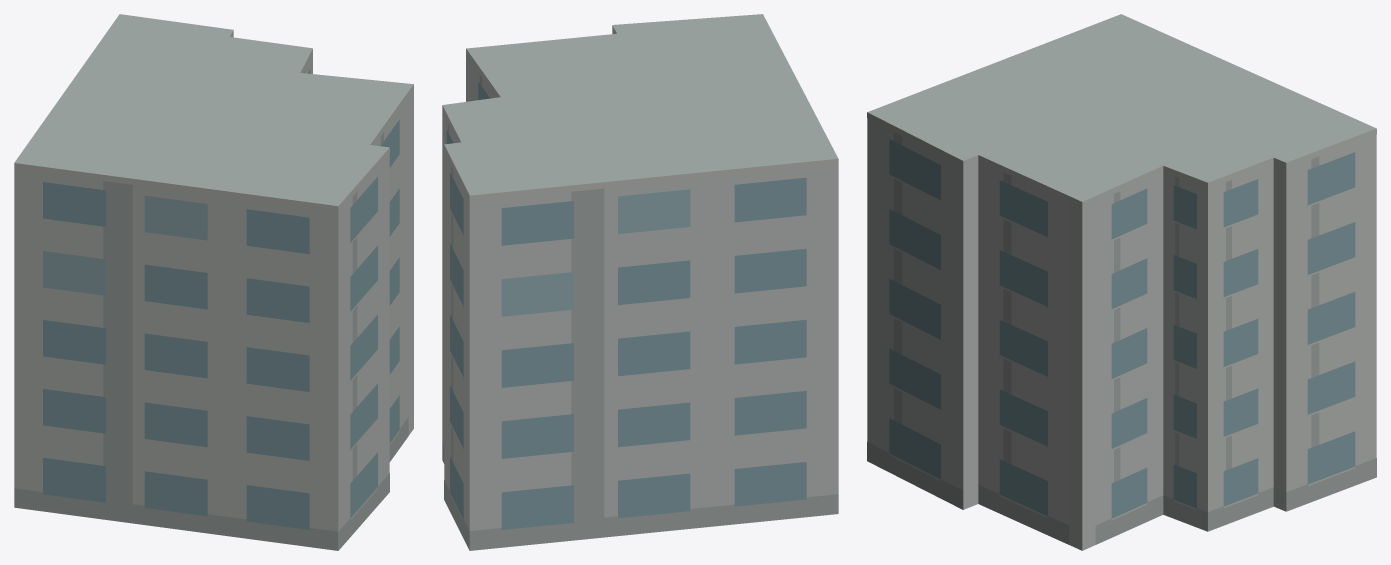
File: survey-upis-32955545.glb
3 views of the same model, side by side, from view 1: azimuth 30°, elevation 25°; view 2: azimuth 150°, elevation 25°; view 3: azimuth 270°, elevation 25° (orthographic). The views are drawn at different scales.
Parts seen in each view (by area): view 1: survey-upis-32955545.tmp; view 2: survey-upis-32955545.tmp; view 3: survey-upis-32955545.tmp.
Boxes of the visible parts, box(x1,y1,x2,y2) form: survey-upis-32955545.tmp: box(14, 14, 413, 550); survey-upis-32955545.tmp: box(442, 14, 838, 550); survey-upis-32955545.tmp: box(867, 14, 1376, 550).
Bounding box in the file's own units: 15.72 × 13.6 × 18.
